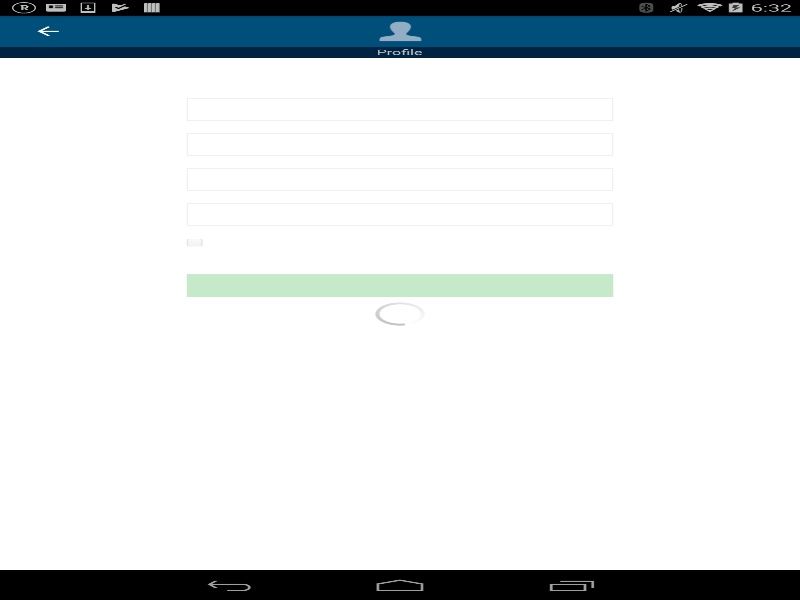Button: (186, 271, 613, 294), (10, 15, 85, 46)
Input: (186, 98, 613, 120), (186, 132, 613, 154), (186, 166, 613, 188), (186, 201, 613, 223)
